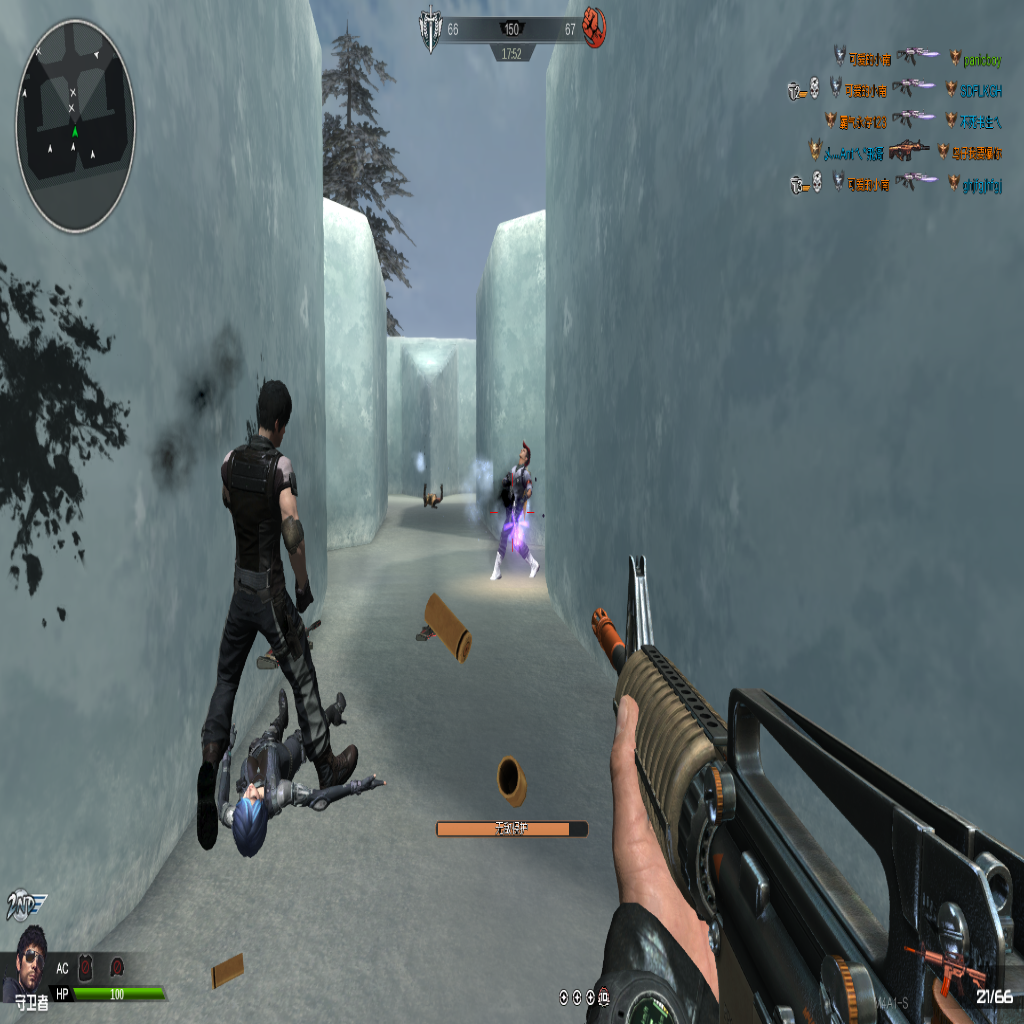ct: (196, 393, 349, 812)
tt: (508, 440, 535, 574)
